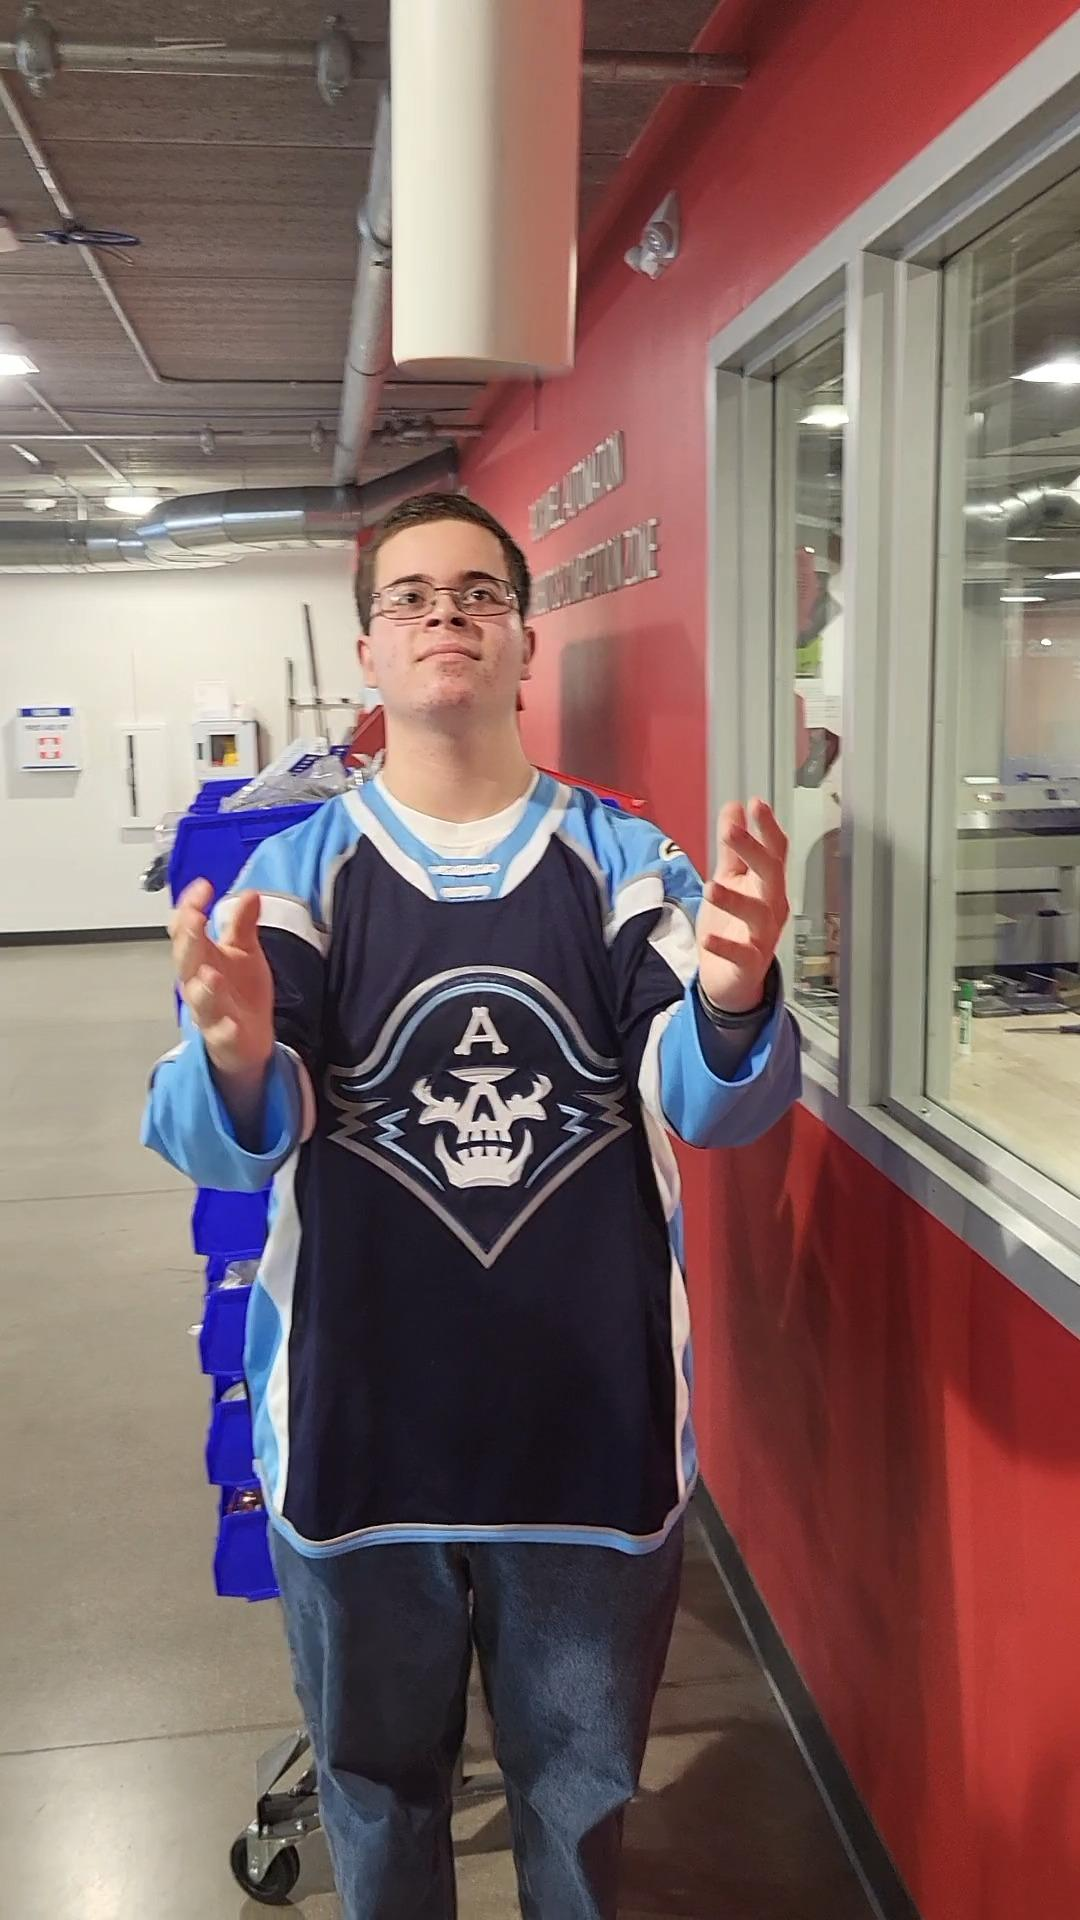coral: (371, 0, 600, 390)
